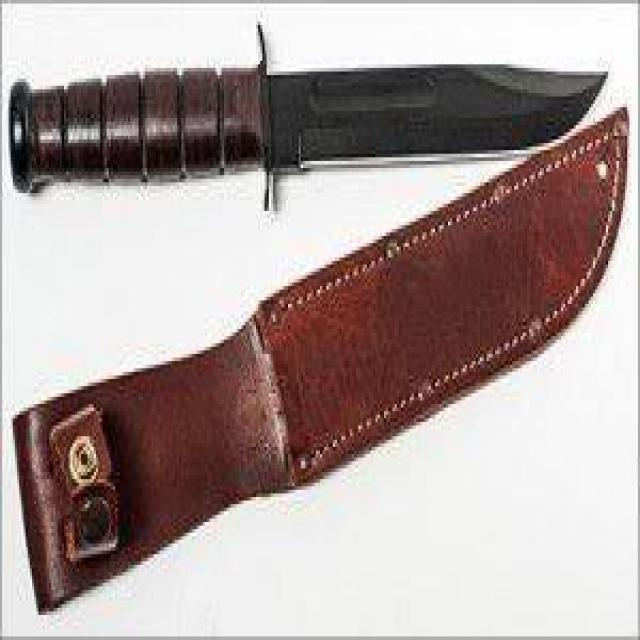knife: (2, 14, 608, 208)
